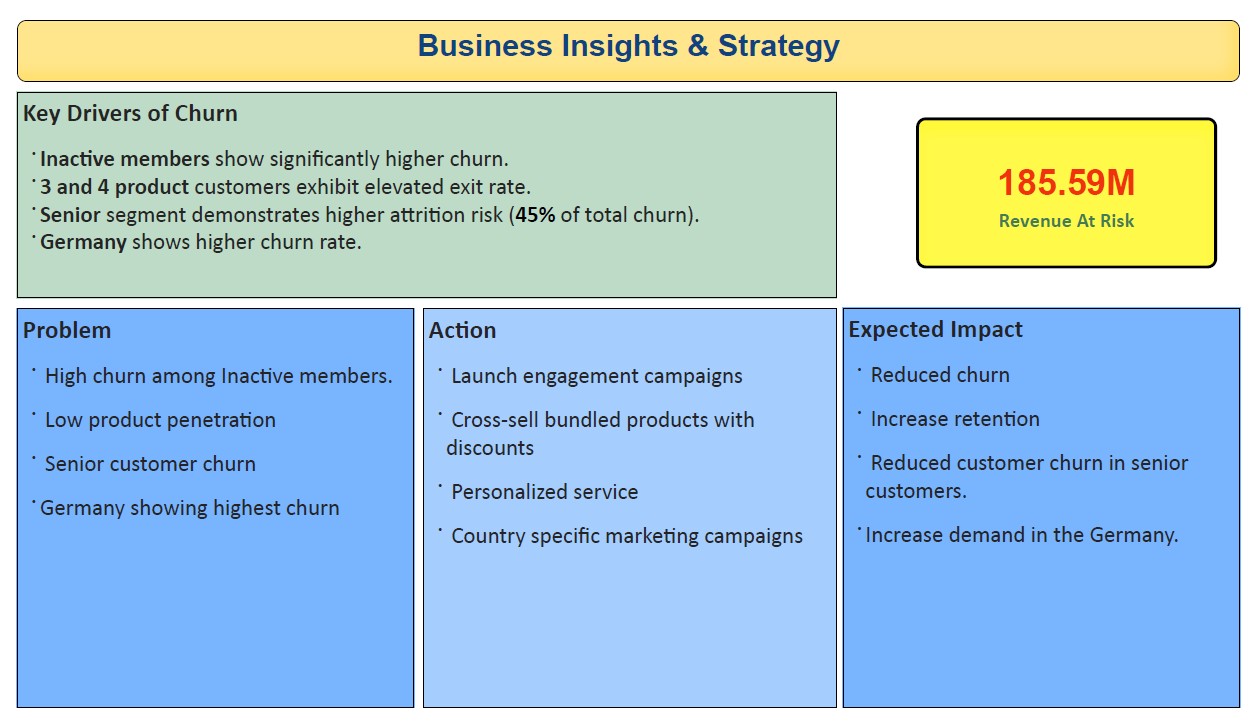

Layout of this report page (visuals, bound fields, positions):
{"tool":"powerbi","page":{"name":"Business Insights & Strategy","canvas":[1280,720],"ordinal":2},"visuals":[{"type":"textbox","box":[0,0,1279.8,65],"z":0},{"type":"textbox","box":[0,74.8,857.7,216],"z":1000},{"type":"textbox","box":[0,301.8,416,418.4],"z":2000},{"type":"textbox","box":[424.5,301.8,433.1,418.4],"z":3000},{"type":"textbox","box":[863.8,300.6,416,419.6],"z":4000},{"type":"card","fields":{"Values":["Measures_Table.Revenue At Risk"]},"box":[941.1,101.8,315.3,158.3],"z":5000}]}

Visuals, with their boxes in screenshot pixels (x1, y1, x2, y2):
textbox: left=7, top=13, right=1242, bottom=76
textbox: left=7, top=85, right=835, bottom=294
textbox: left=7, top=304, right=408, bottom=708
textbox: left=416, top=304, right=834, bottom=708
textbox: left=840, top=303, right=1242, bottom=708
card - Measures_Table.Revenue At Risk: left=915, top=111, right=1219, bottom=264
